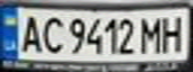1: (103, 15, 121, 55)
2: (115, 15, 139, 55)
4: (84, 15, 106, 55)
9: (63, 15, 87, 55)
A: (15, 11, 45, 54)
C: (39, 14, 66, 54)
H: (157, 11, 190, 53)
M: (136, 14, 166, 53)
